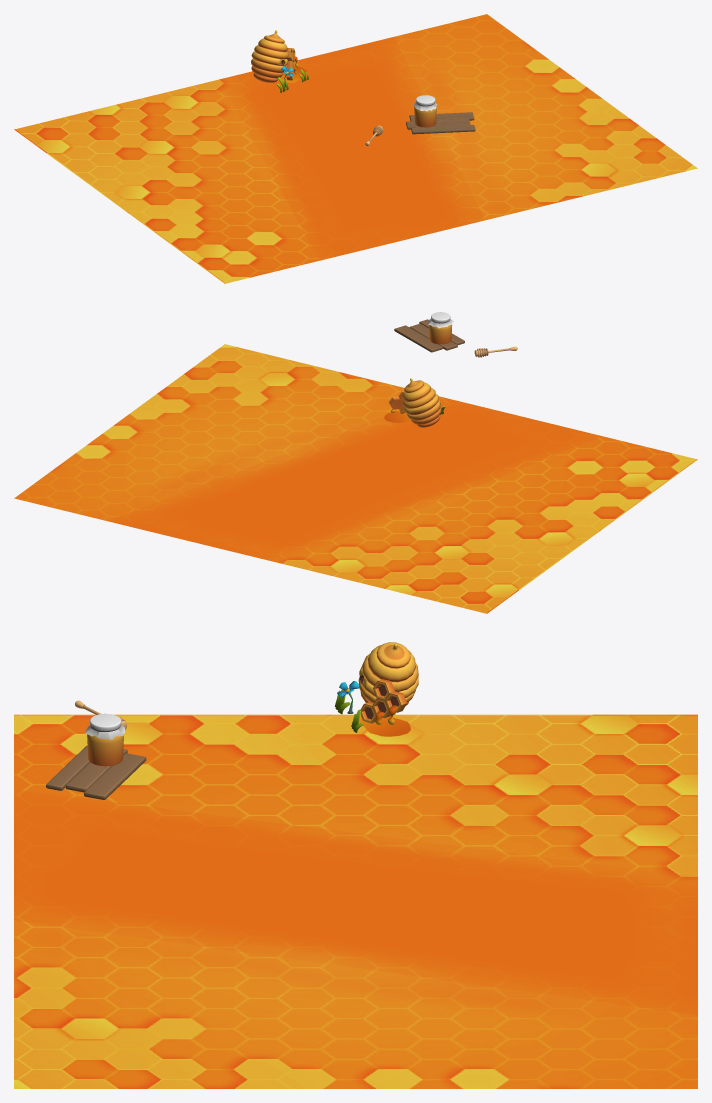
The picture shows the model from 3 angles, top to bottom: view 1: azimuth 30°, elevation 25°; view 2: azimuth 150°, elevation 25°; view 3: azimuth 270°, elevation 25°; orthographic projection. The views are drawn at different scales.
Parts seen in each view (by area): view 1: Plane.006, Cube.119, Object_462; view 2: Plane.006, Cube.119, Object_462, Object_464; view 3: Plane.006, Cube.119, Object_462, Object_464.
Part boxes in pixels (x1,y1,x2,y2): Plane.006: [14, 14, 697, 283]; Cube.119: [251, 30, 308, 92]; Object_462: [406, 95, 475, 134]; Plane.006: [14, 344, 697, 613]; Cube.119: [384, 378, 445, 427]; Object_462: [409, 312, 464, 350]; Object_464: [394, 325, 442, 352]; Plane.006: [14, 714, 697, 1088]; Cube.119: [335, 642, 418, 736]; Object_462: [46, 713, 127, 792]; Object_464: [84, 753, 146, 799].
Size of the model in its own units: 182 by 46.32 by 140.
Materials: 2 (2 with a texture image).
